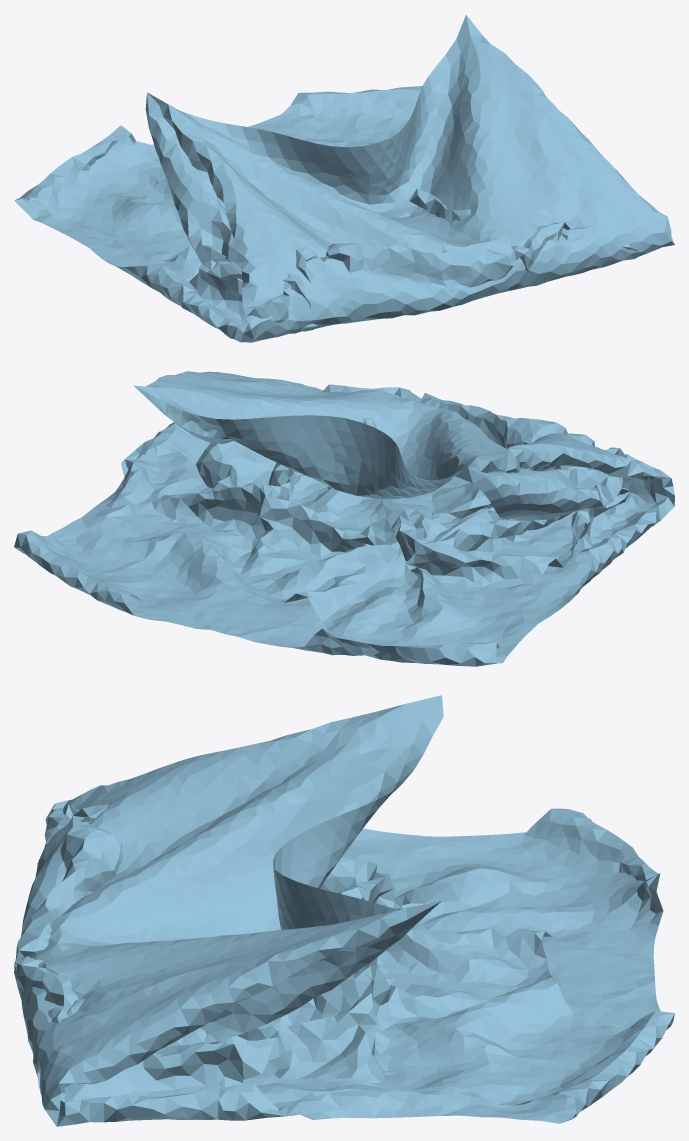
File: frame_15.glb
3 renders of one model, top to bottom at view 1: azimuth 30°, elevation 25°; view 2: azimuth 150°, elevation 25°; view 3: azimuth 270°, elevation 25°, orthographic. The views are drawn at different scales.
Visible parts, largest first — view 1: frame_15.obj; view 2: frame_15.obj; view 3: frame_15.obj.
Boxes of the visible parts, left/top/right/bottom form: frame_15.obj: left=14, top=15, right=674, bottom=342; frame_15.obj: left=14, top=371, right=674, bottom=666; frame_15.obj: left=14, top=695, right=674, bottom=1126.
Size of the model in its own units: 1.24 by 0.3687 by 1.16.
